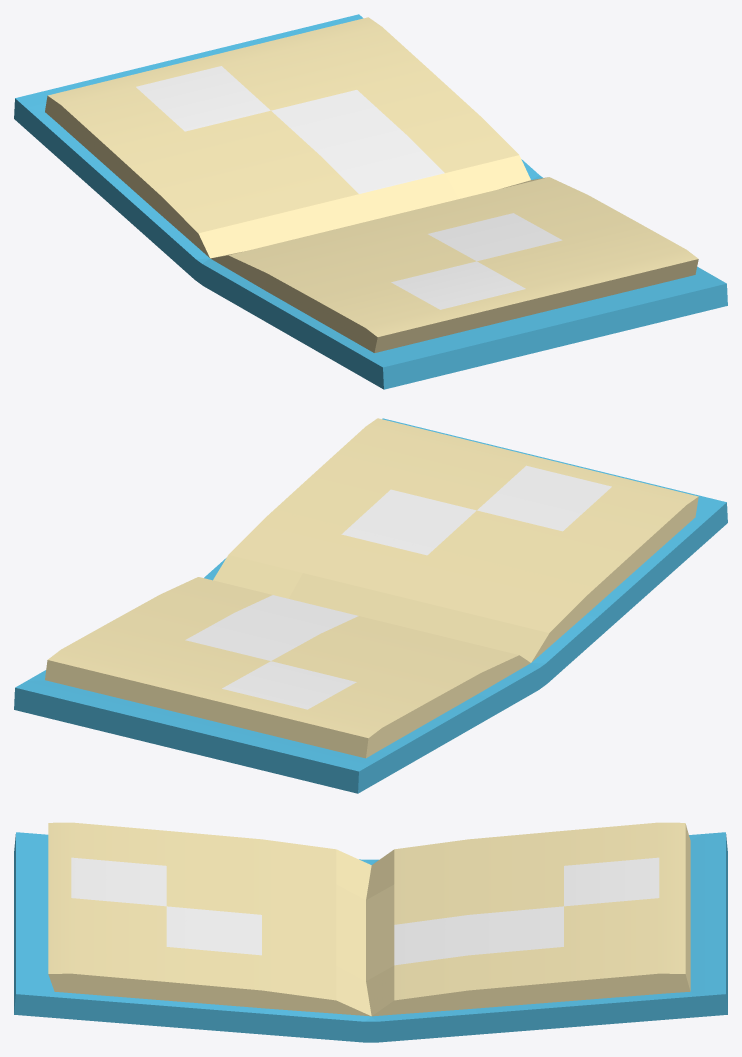
The model's file is ScrapBook.FBX.
3 renders of one model, top to bottom at view 1: azimuth 30°, elevation 25°; view 2: azimuth 150°, elevation 25°; view 3: azimuth 270°, elevation 25°, orthographic. The views are drawn at different scales.
Parts seen in each view (by area): view 1: Box001; view 2: Box001; view 3: Box001.
Boxes of the visible parts, left/top/right/bottom form: Box001: left=14, top=14, right=727, bottom=389; Box001: left=14, top=418, right=727, bottom=793; Box001: left=14, top=822, right=727, bottom=1042.
Bounding box in the file's own units: 30 × 5.48 × 55.89.
